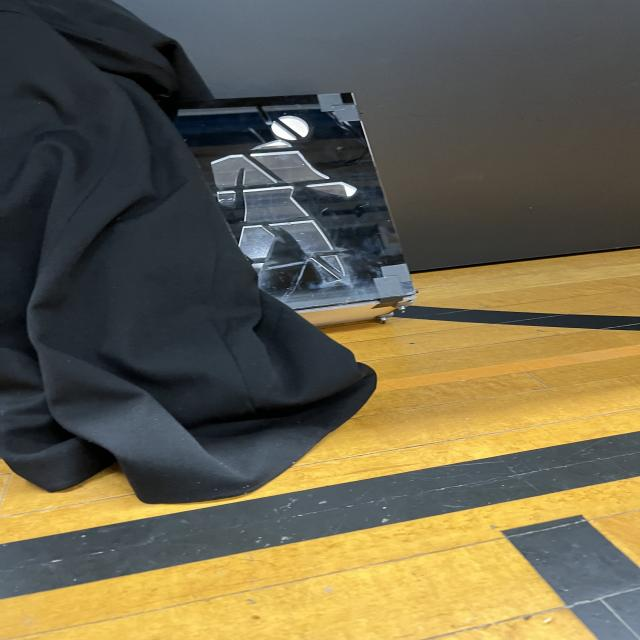go: (172, 95, 414, 310)
